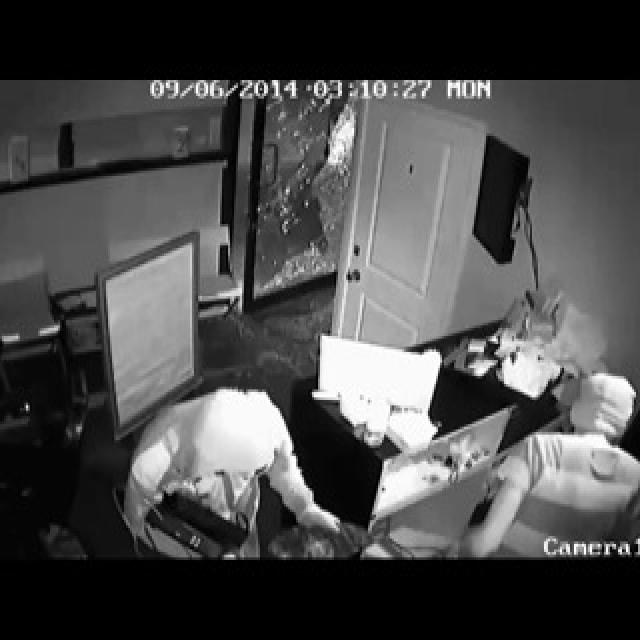thief: (458, 366, 640, 554), (122, 389, 308, 558)
